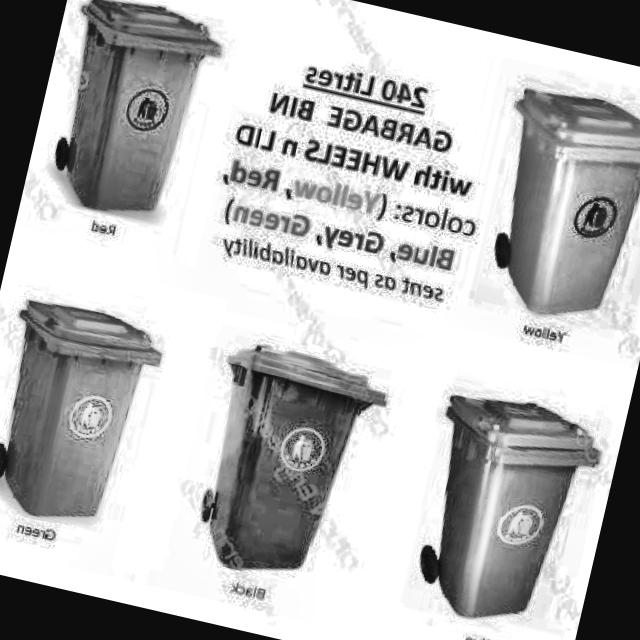Dustbin: (165, 321, 402, 605), (376, 369, 618, 640), (452, 63, 640, 340), (22, 0, 234, 236), (0, 273, 180, 543)
